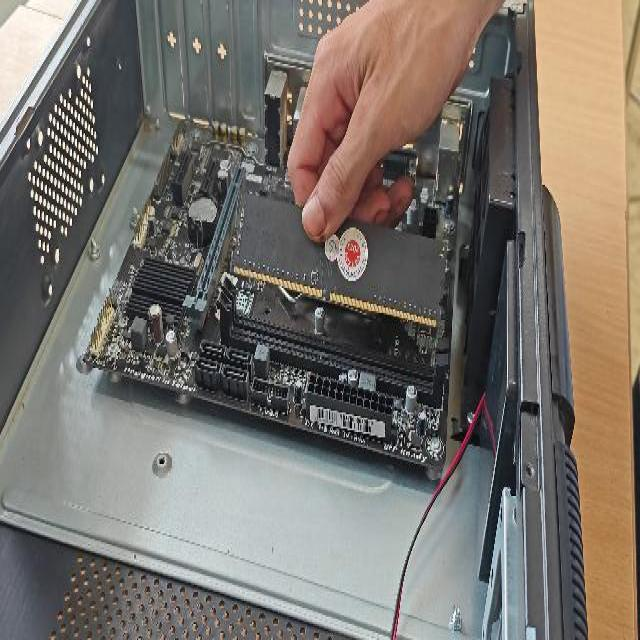Mainboard: (83, 116, 460, 470)
RAM: (232, 182, 448, 330)
